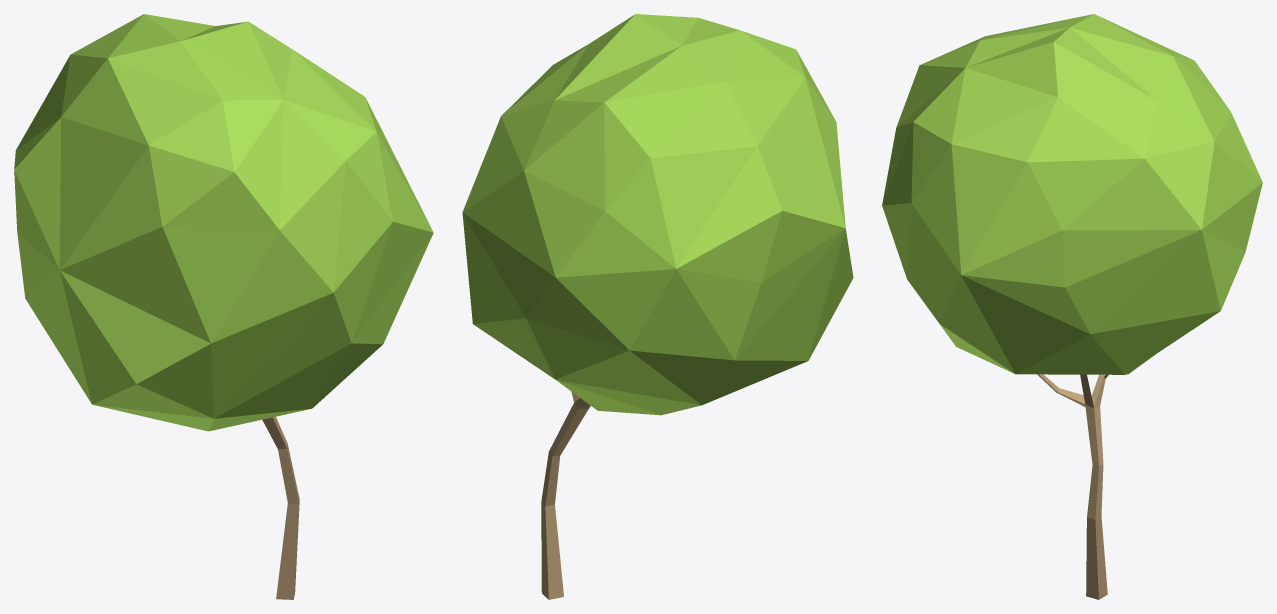
Rendered from Apple_Tree_s_04.fbx.
3 views of the same model, side by side, from view 1: azimuth 30°, elevation 25°; view 2: azimuth 150°, elevation 25°; view 3: azimuth 270°, elevation 25° (orthographic). The views are drawn at different scales.
Visible parts, largest first — view 1: Apple_Tree_s_04; view 2: Apple_Tree_s_04; view 3: Apple_Tree_s_04.
Part boxes in pixels (x1,y1,x2,y2): Apple_Tree_s_04: [14, 14, 433, 599]; Apple_Tree_s_04: [462, 14, 853, 599]; Apple_Tree_s_04: [882, 14, 1262, 599].
Size of the model in its own units: 184 by 317 by 207.
